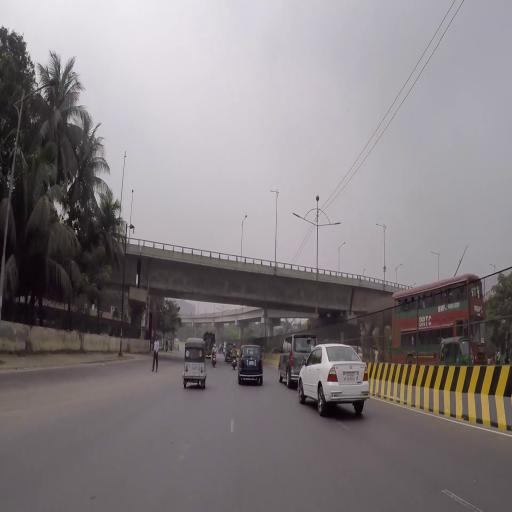bus: (392, 275, 487, 363), (205, 333, 216, 357)
car: (298, 344, 372, 417), (240, 346, 265, 385), (225, 341, 236, 362)
minivan: (279, 334, 316, 385)
motorbike: (231, 345, 238, 371), (212, 345, 217, 367)
three wheelers (CNG): (184, 340, 208, 390), (440, 339, 473, 367)
